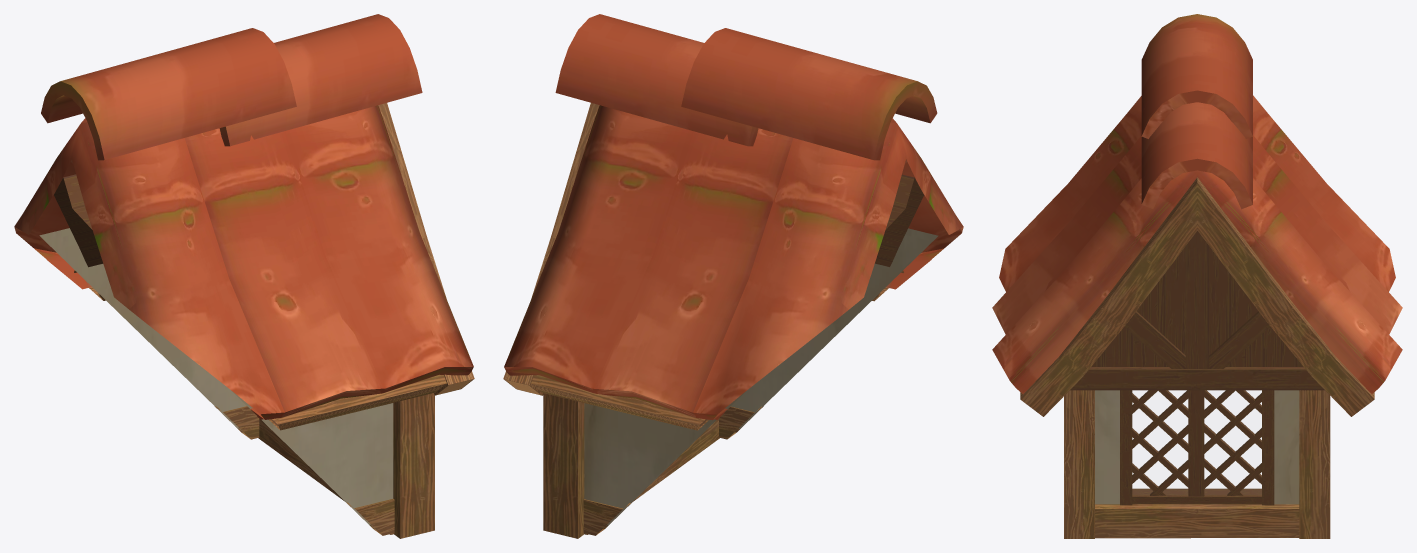
File: Roof_Dormer_RoundTile.glb
The picture shows the model from 3 angles, left to right: view 1: azimuth 30°, elevation 25°; view 2: azimuth 150°, elevation 25°; view 3: azimuth 270°, elevation 25°; orthographic projection. The views are drawn at different scales.
Visible parts, largest first — view 1: Roof_Dormer_RoundTile; view 2: Roof_Dormer_RoundTile; view 3: Roof_Dormer_RoundTile.
Part boxes in pixels (bbox=[...]): Roof_Dormer_RoundTile: bbox=[14, 14, 474, 538]; Roof_Dormer_RoundTile: bbox=[503, 14, 963, 538]; Roof_Dormer_RoundTile: bbox=[992, 14, 1402, 538].
Size of the model in its own units: 1.97 by 2.67 by 2.44.
Materials: 4 (3 with a texture image).
